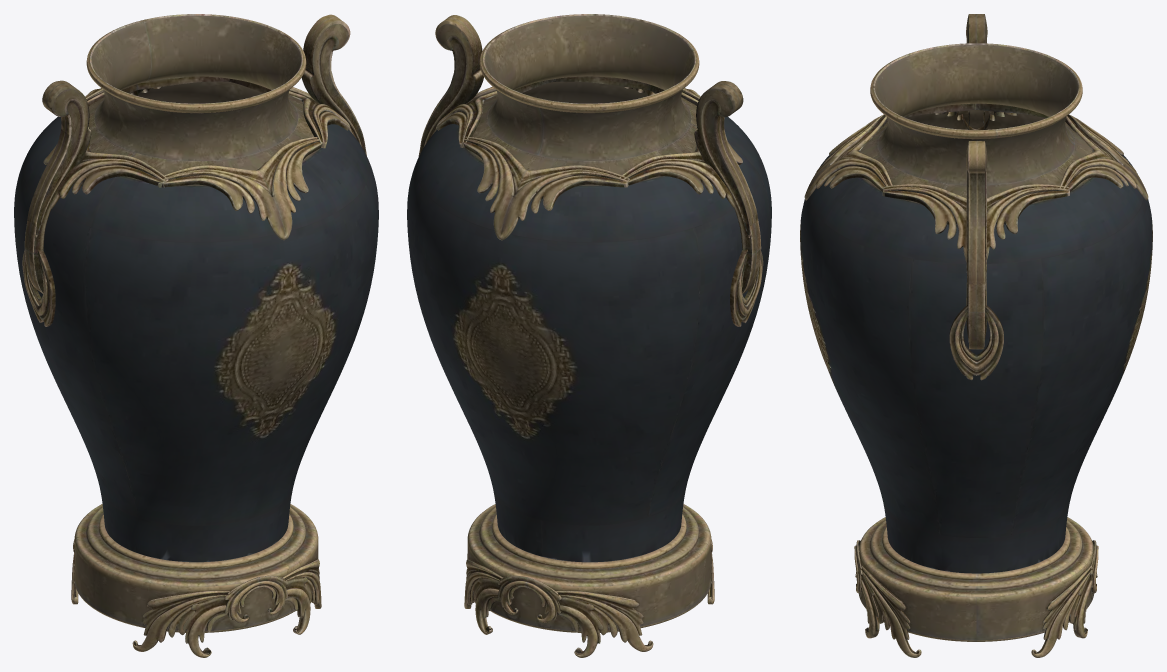
The model's file is 静物_瓶罐_vases_opt_split_20260816092814_std_opt.glb.
3 views of the same model, side by side, from view 1: azimuth 30°, elevation 25°; view 2: azimuth 150°, elevation 25°; view 3: azimuth 270°, elevation 25° (orthographic). The views are drawn at different scales.
Parts seen in each view (by area): view 1: mesh_0, mesh_22; view 2: mesh_0, mesh_22; view 3: mesh_0, mesh_22.
Part boxes in pixels (bbox=[...]): mesh_0: bbox=[14, 14, 378, 632]; mesh_22: bbox=[22, 14, 366, 657]; mesh_0: bbox=[407, 14, 771, 632]; mesh_22: bbox=[418, 15, 763, 657]; mesh_0: bbox=[800, 43, 1152, 641]; mesh_22: bbox=[804, 14, 1148, 657].
Size of the model in its own units: 0.1901 by 0.3 by 0.1791.
Materials: 2 (2 with a texture image).
